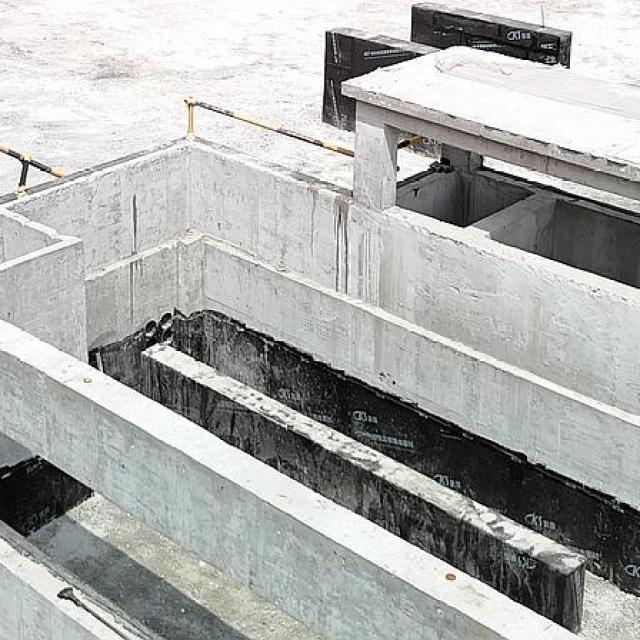edge_guardrail: (186, 98, 356, 159), (0, 144, 66, 187)
